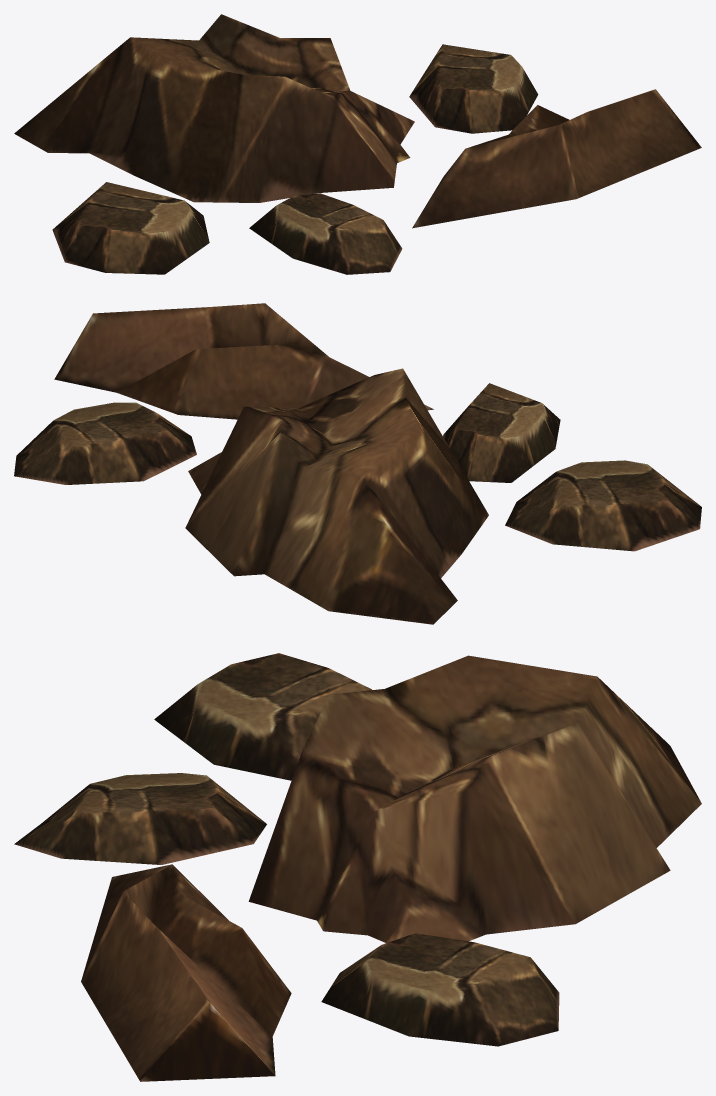
File: A_shitou002.fbx
The picture shows the model from 3 angles, top to bottom: view 1: azimuth 30°, elevation 25°; view 2: azimuth 150°, elevation 25°; view 3: azimuth 270°, elevation 25°; orthographic projection. The views are drawn at different scales.
Parts seen in each view (by area): view 1: A_shitou002; view 2: A_shitou002; view 3: A_shitou002.
Boxes of the visible parts, x1=… form: A_shitou002: x1=14, y1=14, x2=701, y2=274; A_shitou002: x1=14, y1=303, x2=701, y2=624; A_shitou002: x1=14, y1=653, x2=701, y2=1081.
Size of the model in its own units: 251 by 45.25 by 179.
